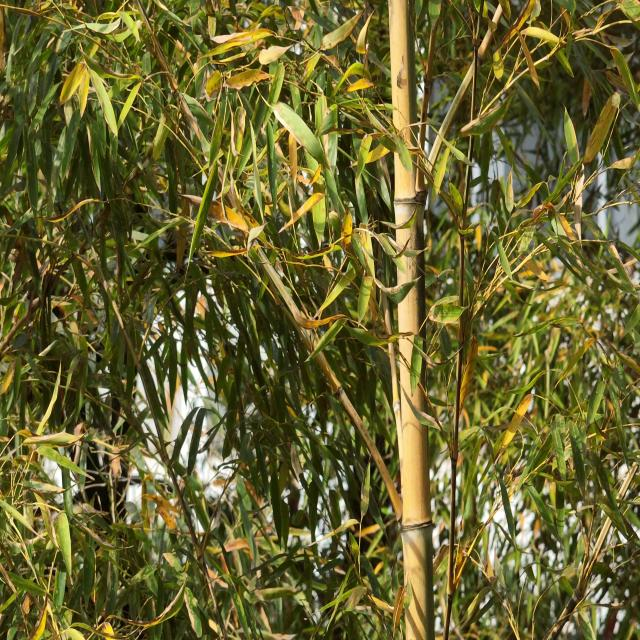Bamboo-shoots: (388, 0, 435, 640)
